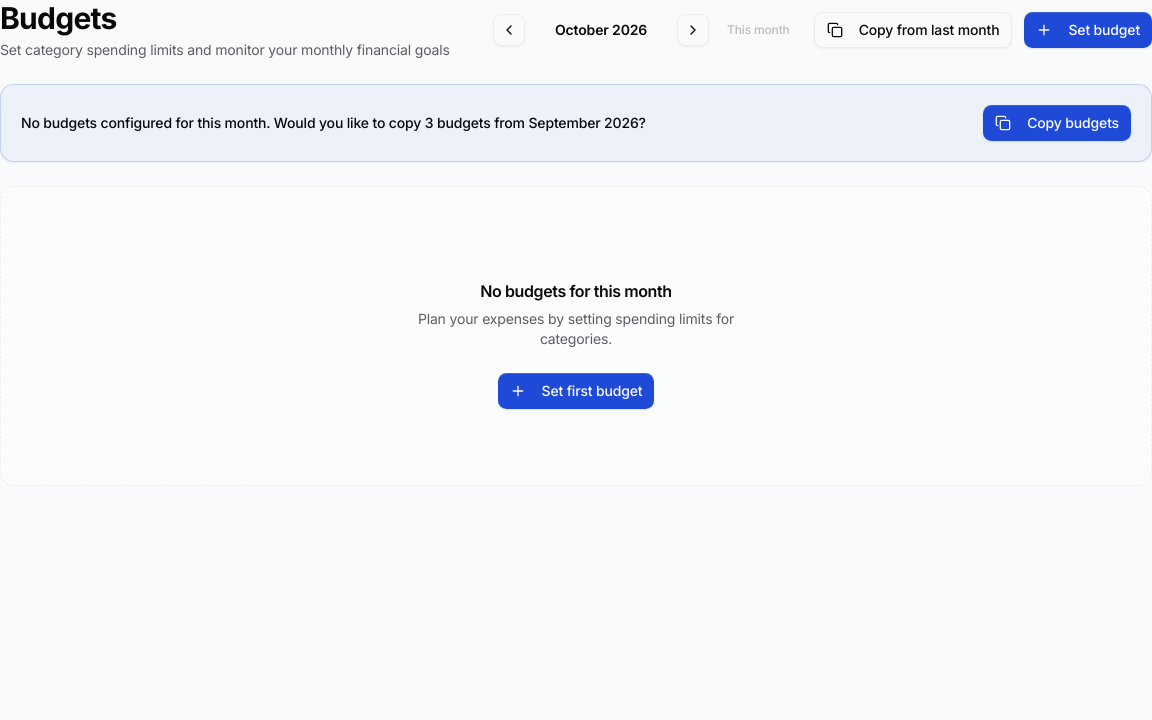
Test: BudgetsPage › renders fast copy banner when no budgets exist in current month but previous month has budgets
The image size is (1152, 720).
Check: the element with test id "copy-budgets-banner" is shown, box [0,84,1151,162]
What coordinates should you click on to do the following:
click the button with test id "copy-banner-action"
I would click on:
 (1057, 123)
Its box is [983,105,1131,141].
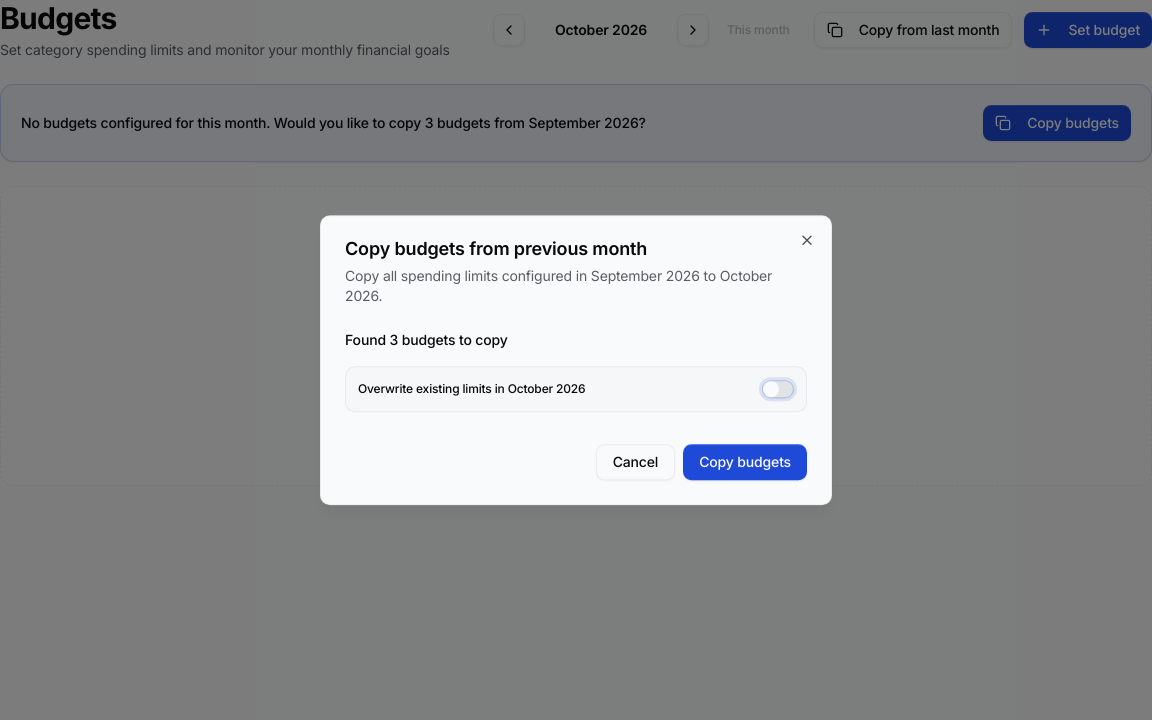
Check: the dialog with test id "copy-budgets-dialog" is shown, box [320,215,832,505]
